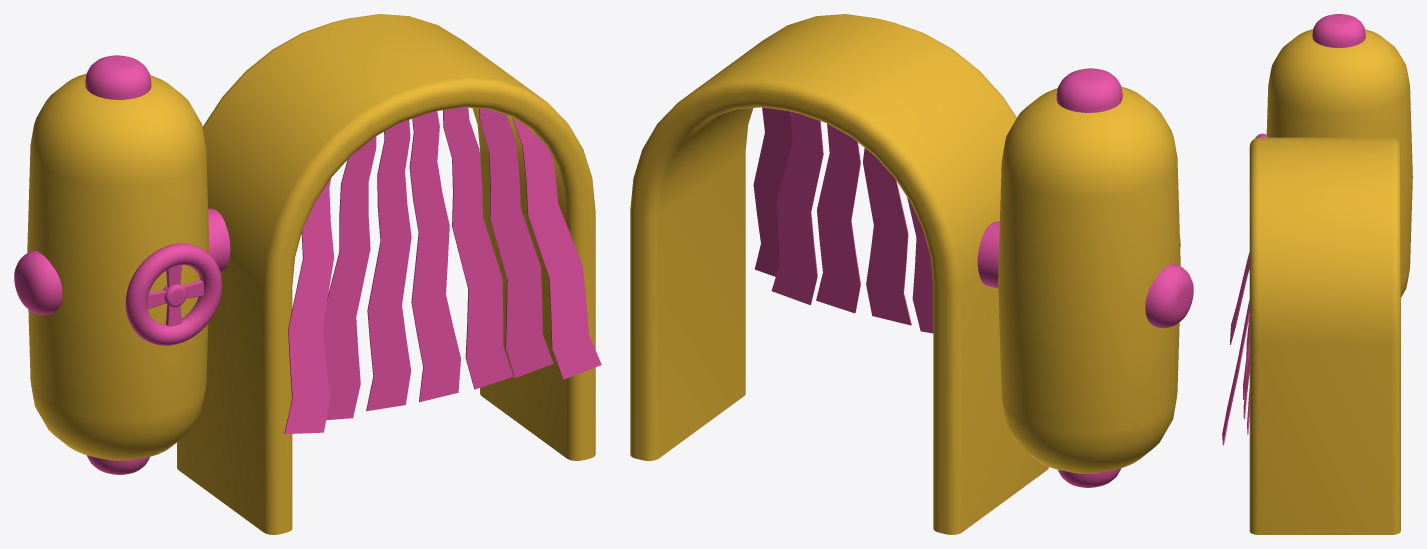
Rendered from makina5.fbx.
3 views of the same model, side by side, from view 1: azimuth 30°, elevation 25°; view 2: azimuth 150°, elevation 25°; view 3: azimuth 270°, elevation 25° (orthographic). The views are drawn at different scales.
Visible parts, largest first — view 1: AnaGovde, vanaGovde, kumas4, kumas5, kumas3, kumas6, kumas7, kumas2, kumas, vana; view 2: AnaGovde, vanaGovde, kumas6, kumas5, kumas4, kumas7, kumas3; view 3: AnaGovde, vanaGovde, kumas7, kumas.
Boxes of the visible parts, x1,y1,x2,y2 form: AnaGovde: (177, 14, 595, 534); vanaGovde: (14, 55, 230, 474); kumas4: (409, 111, 460, 402); kumas5: (443, 107, 513, 389); kumas3: (366, 120, 411, 410); kumas6: (479, 108, 553, 377); kumas7: (512, 118, 601, 379); kumas2: (323, 136, 376, 420); kumas: (284, 178, 334, 433); vana: (125, 243, 222, 345); AnaGovde: (630, 14, 1048, 534); vanaGovde: (977, 68, 1193, 487); kumas6: (771, 112, 823, 305); kumas5: (816, 123, 860, 313); kumas4: (863, 148, 911, 325); kumas7: (753, 107, 792, 276); kumas3: (907, 197, 933, 333); AnaGovde: (1249, 137, 1400, 534); vanaGovde: (1266, 14, 1412, 297); kumas7: (1222, 299, 1249, 445); kumas: (1230, 252, 1249, 344).
Size of the model in its own units: 314 by 263 by 128.
